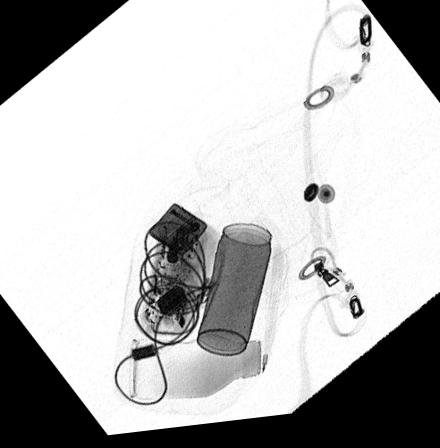Lighter: (147, 206, 208, 260)
